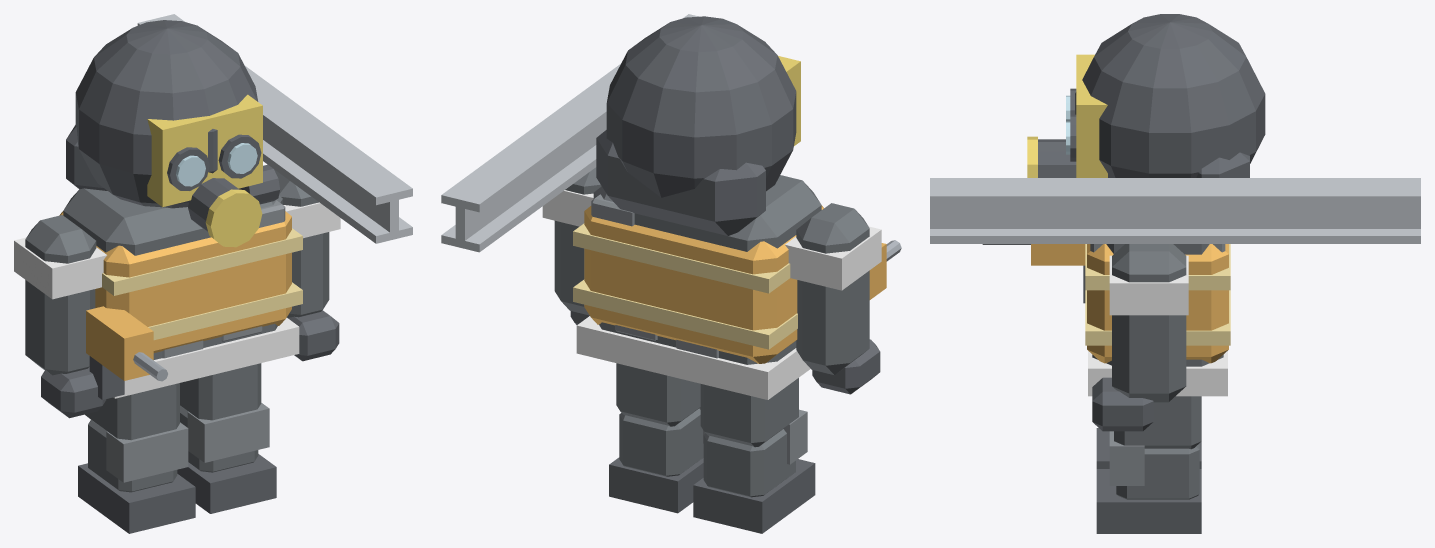
File: builder@toxico.glb
3 views of the same model, side by side, from view 1: azimuth 30°, elevation 25°; view 2: azimuth 150°, elevation 25°; view 3: azimuth 270°, elevation 25° (orthographic). The views are drawn at different scales.
Visible parts, largest first — view 1: main, shinl, shinr, legl, legr; view 2: main, shinl, shinr, legl, legr; view 3: main, shinr, legr, shinl.
Part boxes in pixels (x1,y1,x2,y2): main: (14,14,412,418); shinl: (78,420,195,533); shinr: (177,403,276,513); legl: (85,383,179,440); legr: (180,363,261,420); main: (441,14,901,399); shinl: (693,409,815,533); shinr: (609,407,705,513); legl: (700,378,798,447); legr: (616,363,700,426); main: (930,14,1420,431); shinr: (1096,431,1201,533); legr: (1114,396,1201,449); shinl: (1096,428,1201,468).
Size of the model in its own units: 0.391 by 0.5975 by 0.56.
